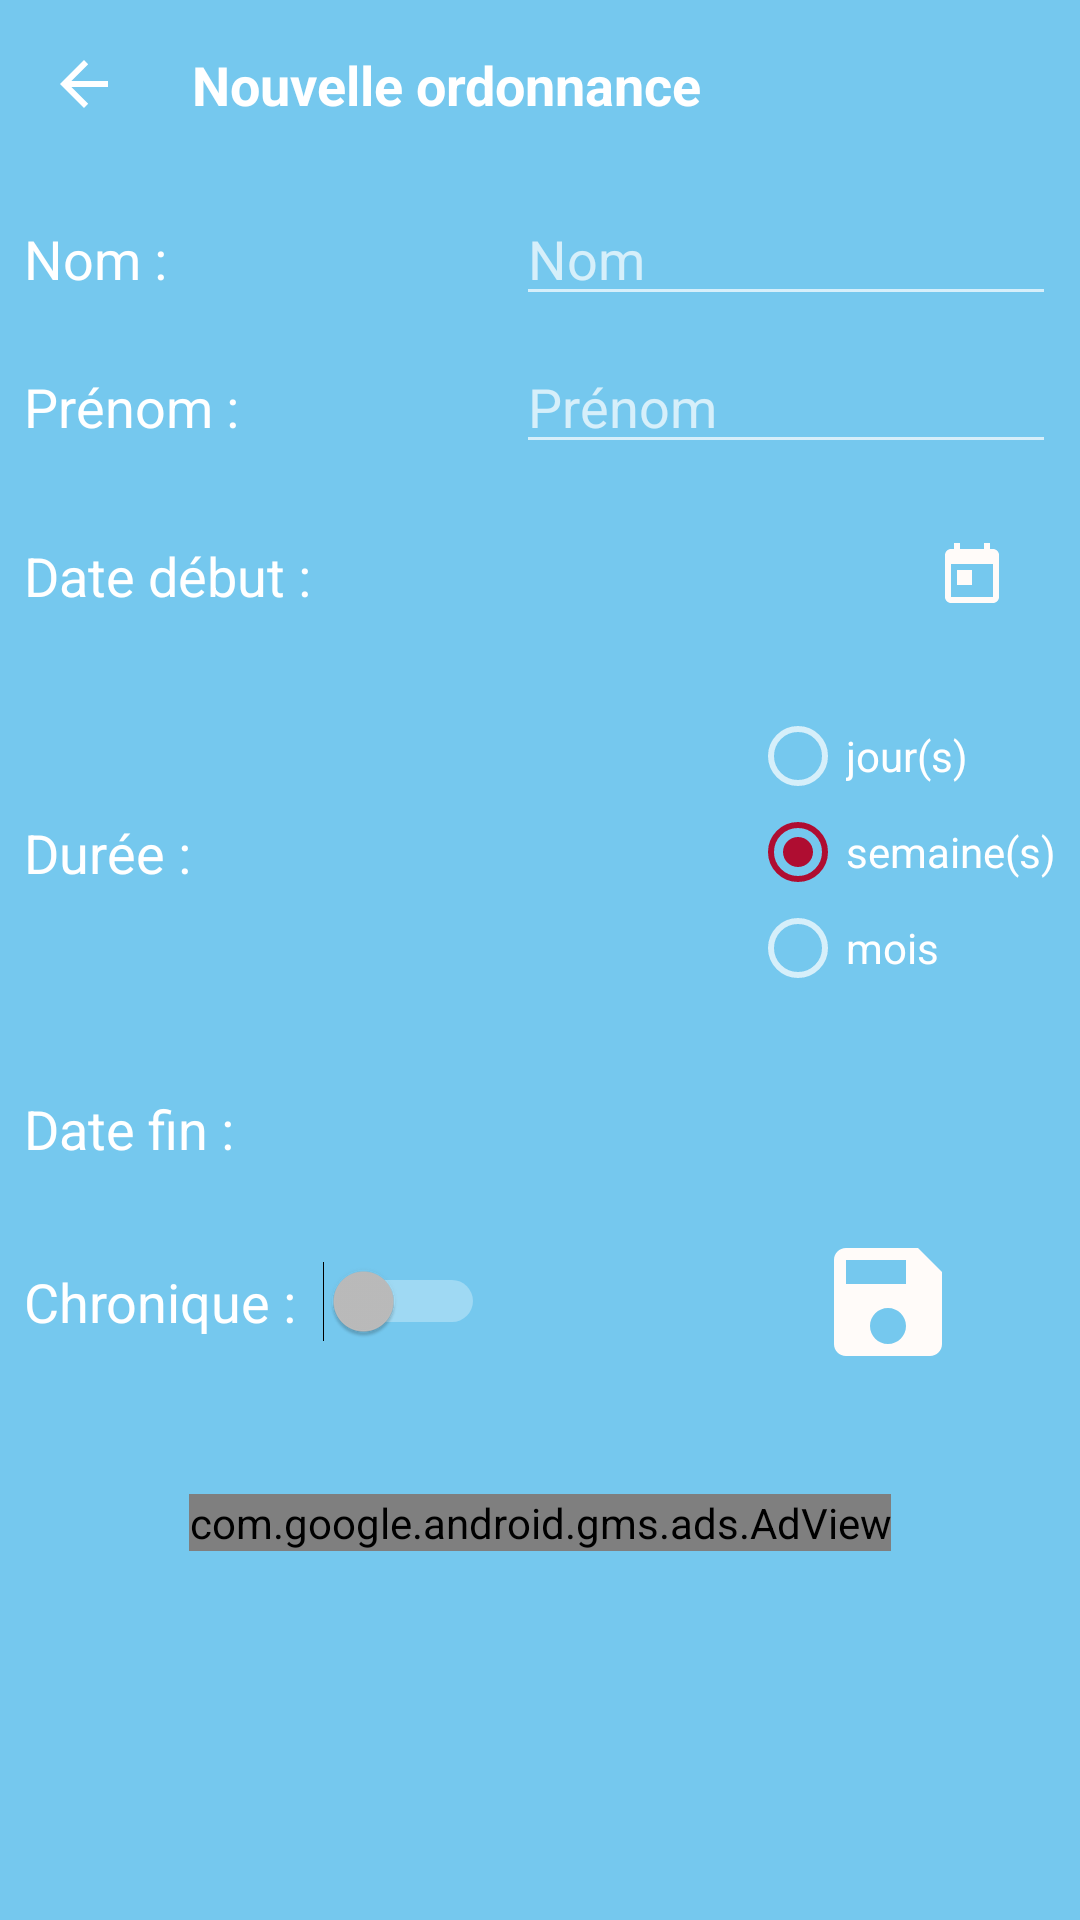

Icon click points for this 1080 × 1920 phone screenshot, format point (x, y):
save: point (888, 1302)
today: point (972, 573)
